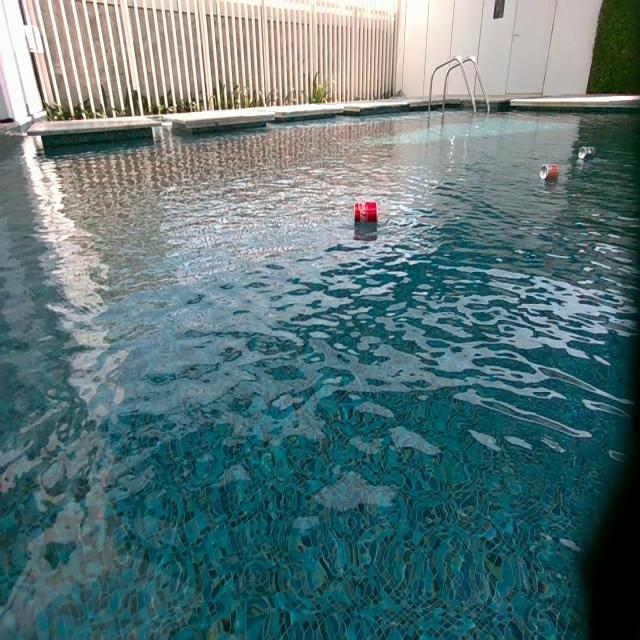Cans: (354, 202, 376, 223), (539, 164, 558, 182), (577, 146, 596, 161), (577, 146, 591, 161), (450, 137, 456, 145)
